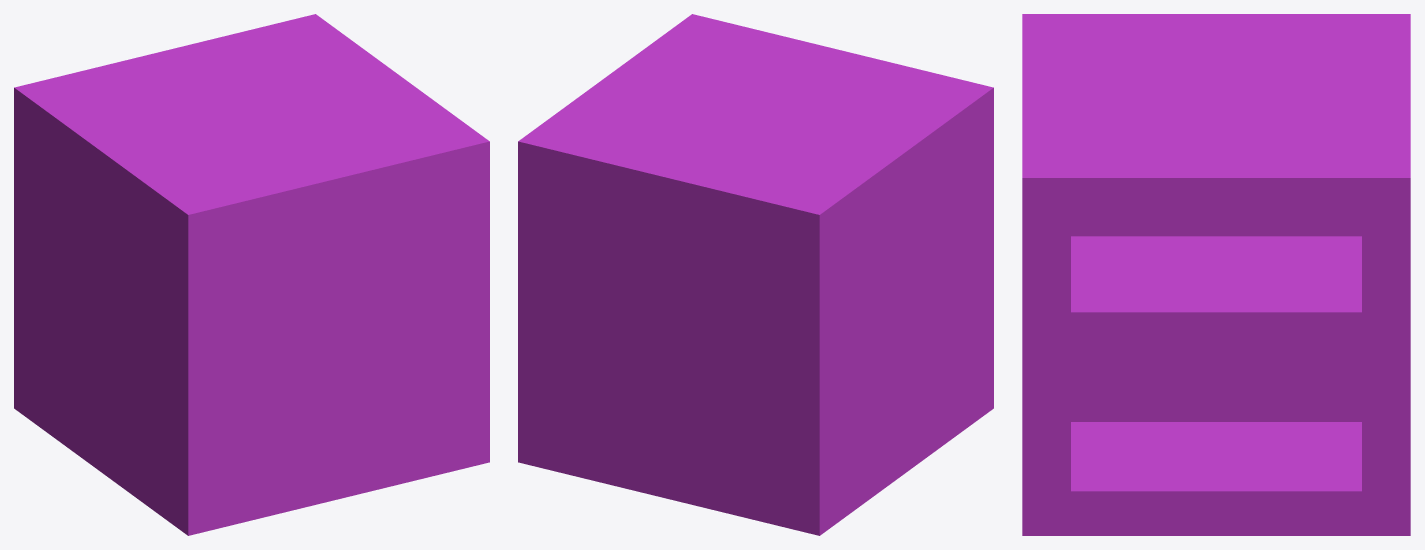
Rendered from mueble.fbx.
3 views of the same model, side by side, from view 1: azimuth 30°, elevation 25°; view 2: azimuth 150°, elevation 25°; view 3: azimuth 270°, elevation 25° (orthographic). The views are drawn at different scales.
Visible parts, largest first — view 1: Plane; view 2: Plane; view 3: Plane.
Part boxes in pixels (x1,y1,x2,y2): Plane: [14, 14, 489, 535]; Plane: [518, 14, 993, 535]; Plane: [1022, 14, 1410, 535].
Bounding box in the file's own units: 200 × 203 × 200.
